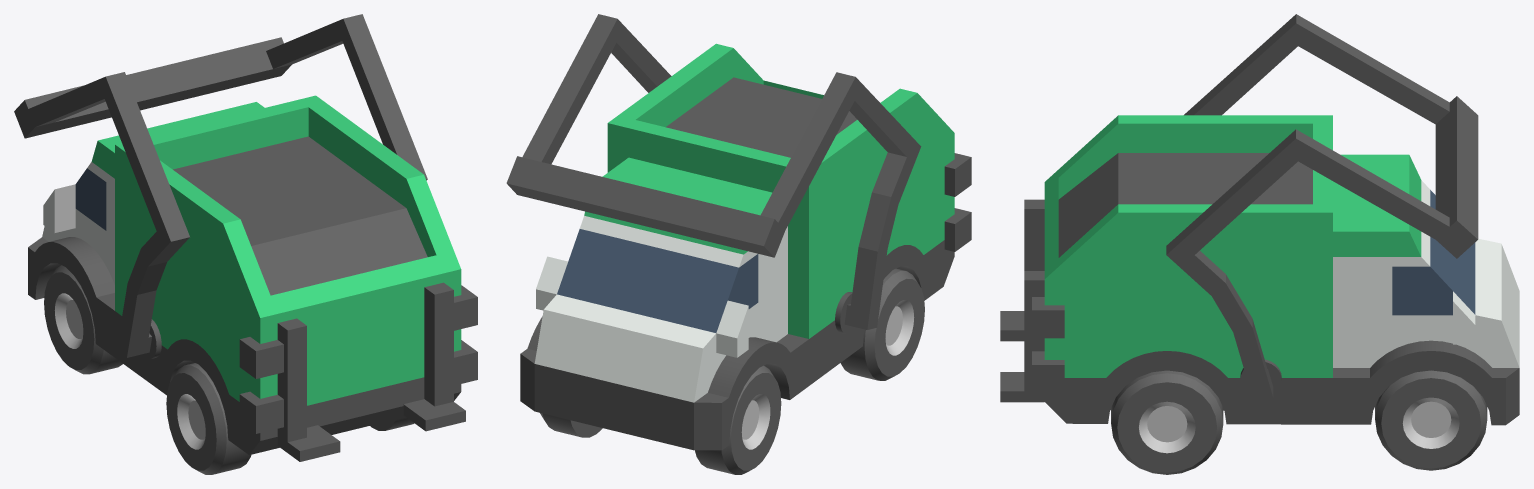
File: carGarbage.fbx
3 renders of one model, left to right at view 1: azimuth 30°, elevation 25°; view 2: azimuth 150°, elevation 25°; view 3: azimuth 270°, elevation 25°, orthographic.
Visible parts, largest first — view 1: body 3, arm, bar 1, bar, wheelBackLeft 3, wheelFrontLeft 3; view 2: body 3, arm, wheelBackLeft 3, wheelFrontLeft 3, bar 1, wheelFrontRight 3; view 3: body 3, arm, wheelBackRight 3, wheelFrontRight 3, bar, bar 1.
Part boxes in pixels (<box>): body 3: <box>28,95,461,455</box>; arm: <box>14,14,427,358</box>; bar 1: <box>239,318,340,461</box>; bar: <box>403,282,477,431</box>; wheelBackLeft 3: <box>166,363,251,474</box>; wheelFrontLeft 3: <box>44,265,122,374</box>; body 3: <box>520,43,954,450</box>; arm: <box>506,14,921,333</box>; wheelBackLeft 3: <box>840,268,924,380</box>; wheelFrontLeft 3: <box>695,365,781,474</box>; bar 1: <box>944,153,971,251</box>; wheelFrontRight 3: <box>540,413,602,437</box>; body 3: <box>1044,115,1519,425</box>; arm: <box>1166,14,1478,402</box>; wheelBackRight 3: <box>1111,370,1223,474</box>; wheelFrontRight 3: <box>1375,370,1487,470</box>; bar: <box>1000,271,1064,402</box>; bar 1: <box>1000,199,1044,341</box>.
Size of the model in its own units: 7.35 by 9.68 by 12.95.
